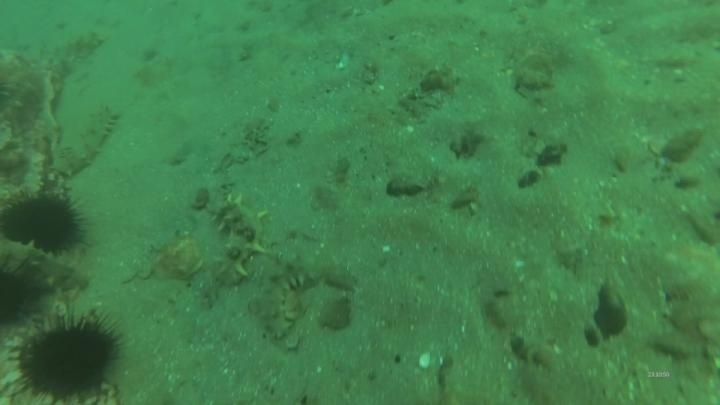echinus: (9, 308, 125, 404), (1, 186, 90, 259), (1, 259, 51, 331)
holothurian: (254, 251, 323, 344), (208, 190, 270, 289), (50, 101, 123, 180), (1, 236, 93, 297), (9, 25, 110, 72)
